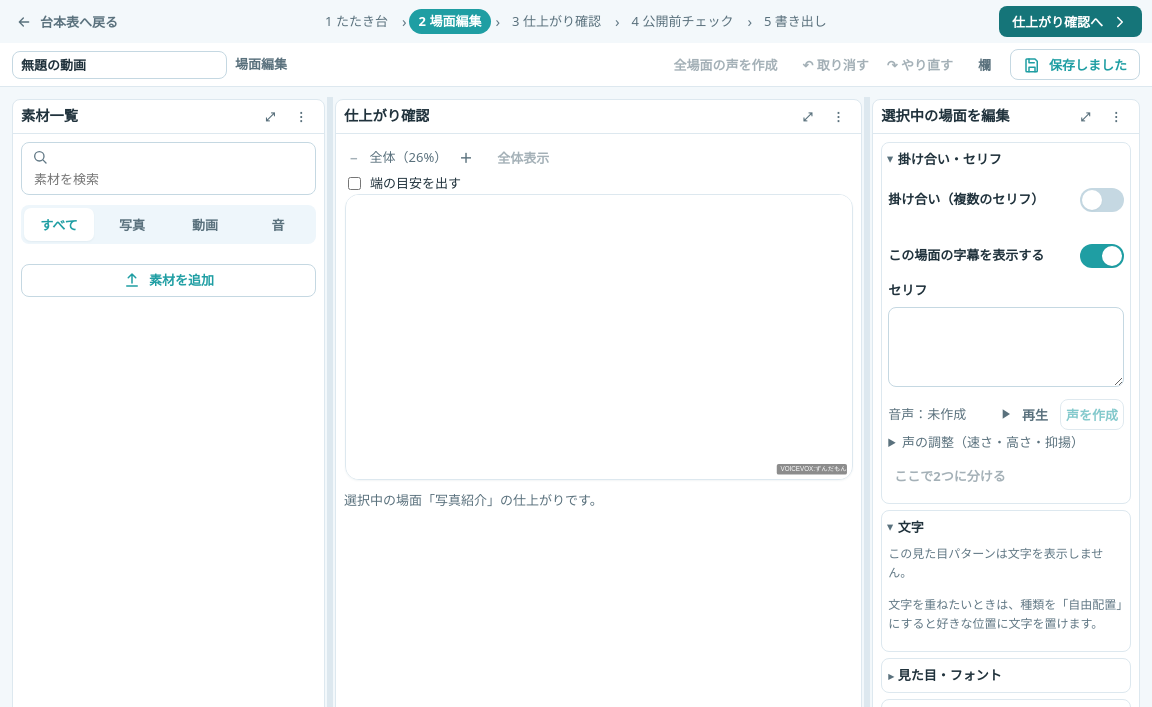
SceneEditScreen: 欄の配置（ADR-0033 段階4） › 閉じている欄の数を、メニューを開く前に出す
Expected: the button "欄" does not show "閉じている"
Click the button named "素材一覧の欄の操作". click: (301, 116)
box: [286, 104, 316, 129]
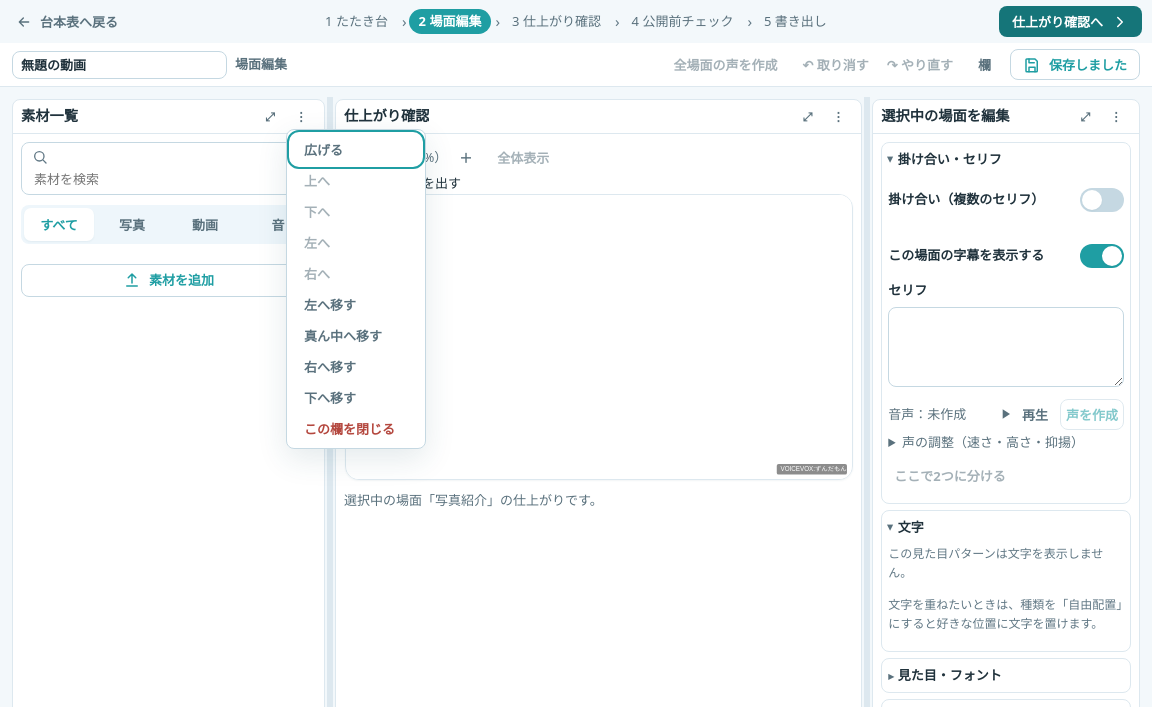
Click the menu item "この欄を閉じる". click: (356, 428)
box: [291, 413, 421, 444]
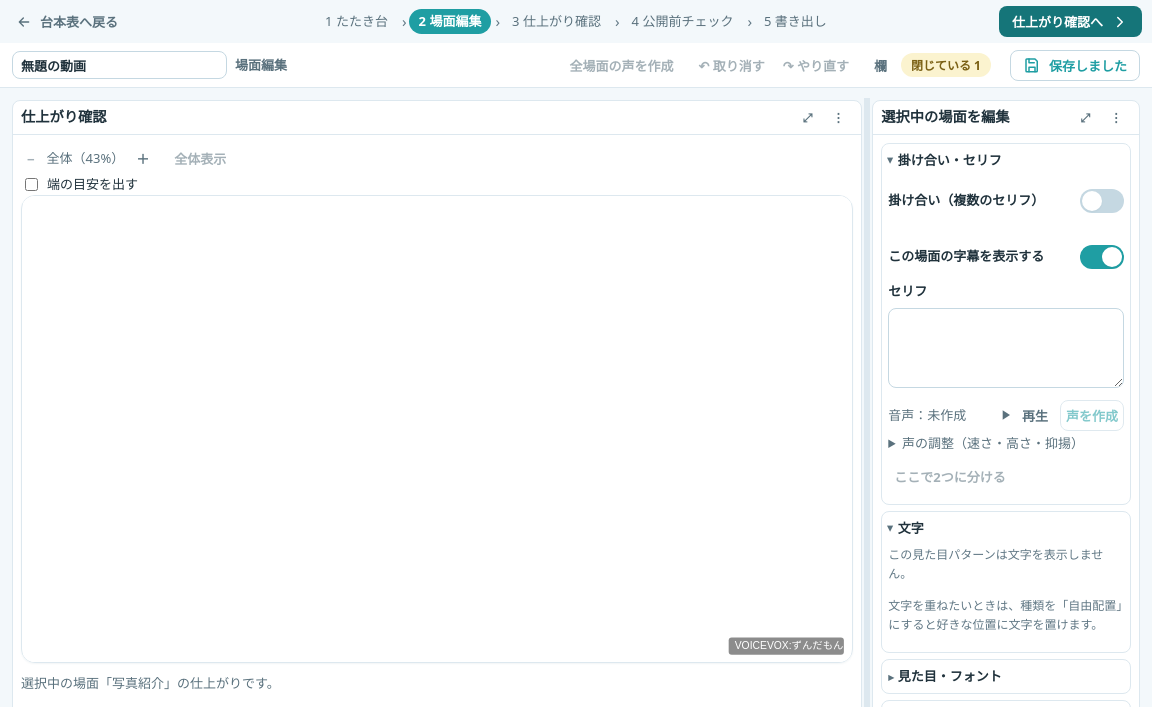
Result: the button "欄 閉じている 1" is shown at [861, 47, 1004, 83]
